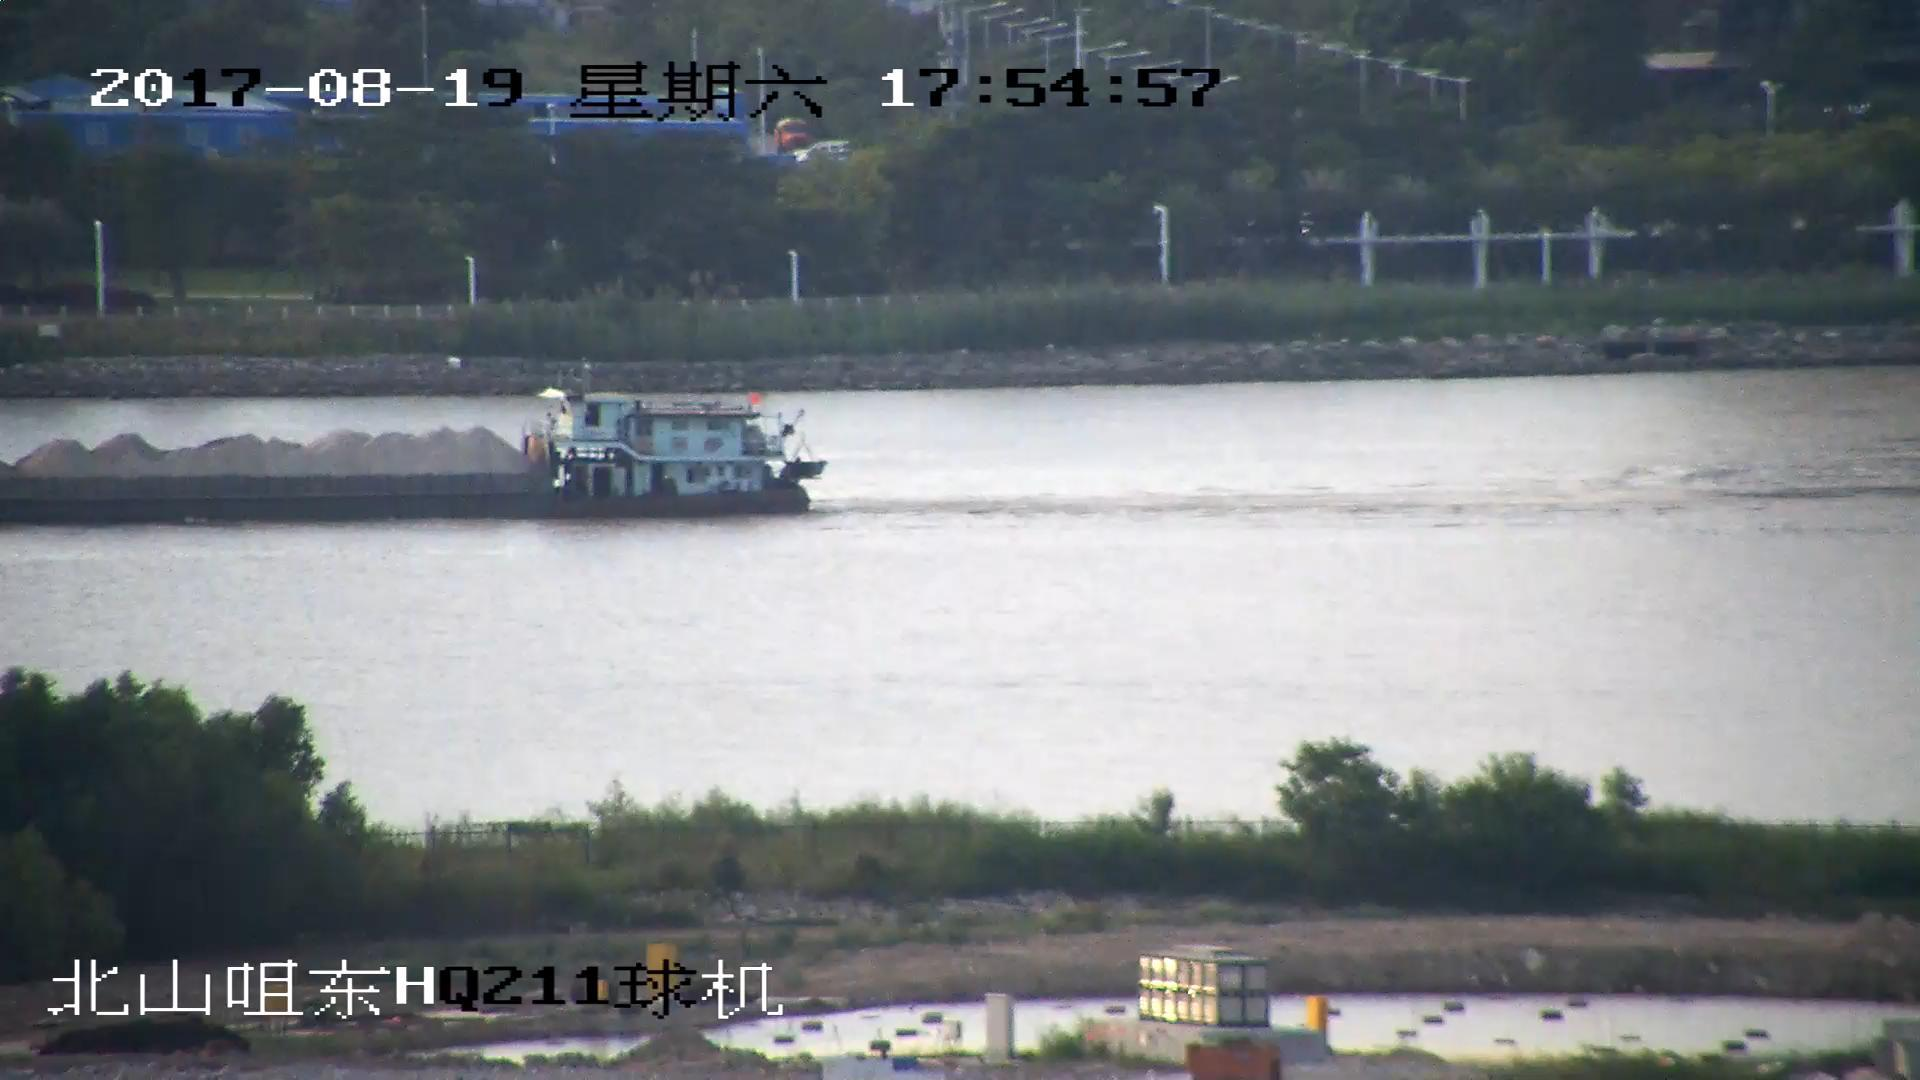Ship: (3, 385, 827, 524)
